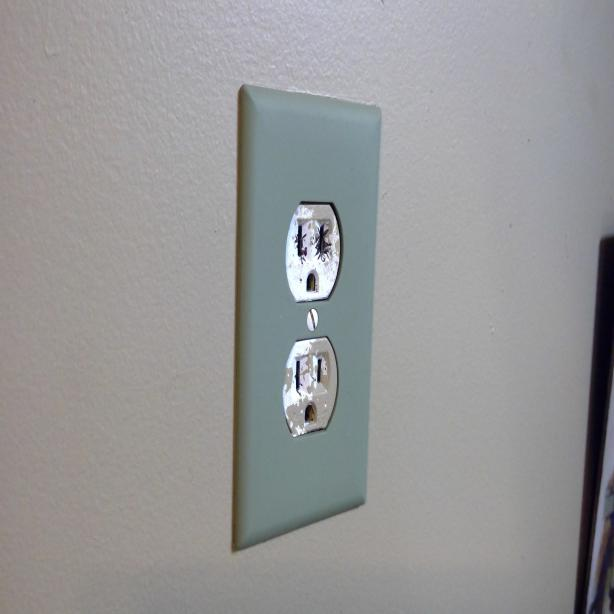typeb: (282, 201, 338, 302), (285, 340, 339, 433)
